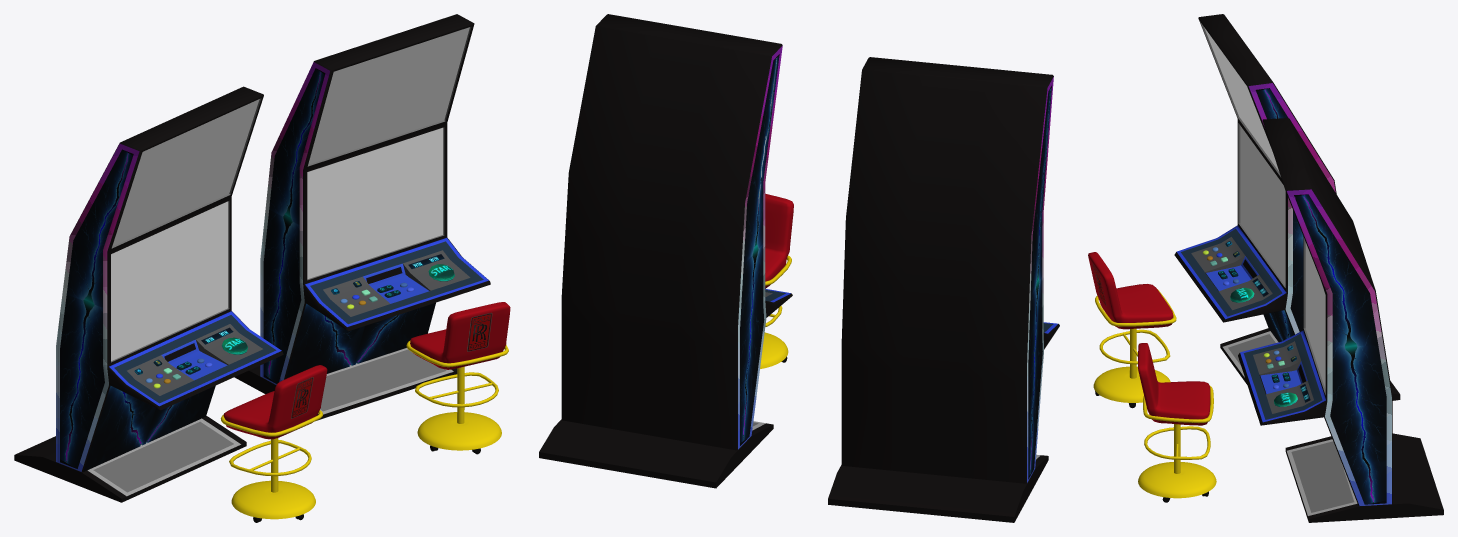
Rendered from Automat1.fbx.
3 views of the same model, side by side, from view 1: azimuth 30°, elevation 25°; view 2: azimuth 150°, elevation 25°; view 3: azimuth 270°, elevation 25° (orthographic). The views are drawn at different scales.
Visible parts, largest first — view 1: SlotMashine.054, SlotMashine.056, GameChair.066, GameChair.069, SlotMashine.065, SlotMashine.066; view 2: SlotMashine.054, SlotMashine.056, GameChair.066; view 3: SlotMashine.054, SlotMashine.056, GameChair.066, GameChair.069, SlotMashine.066.
Boxes of the visible parts, x1,y1,x2,y2 form: SlotMashine.054: [234, 14, 490, 420]; SlotMashine.056: [14, 86, 283, 502]; GameChair.066: [406, 302, 510, 454]; GameChair.069: [220, 365, 327, 522]; SlotMashine.065: [63, 153, 171, 461]; SlotMashine.066: [268, 72, 398, 374]; SlotMashine.054: [539, 14, 792, 488]; SlotMashine.056: [828, 57, 1059, 522]; GameChair.066: [760, 193, 793, 368]; SlotMashine.054: [1238, 118, 1443, 522]; SlotMashine.056: [1174, 14, 1400, 400]; GameChair.066: [1138, 343, 1216, 502]; GameChair.069: [1088, 252, 1176, 408]; SlotMashine.066: [1295, 195, 1374, 501].
Bounding box in the file's own units: 339 × 272 × 262.
Materials: 10 (6 with a texture image).
